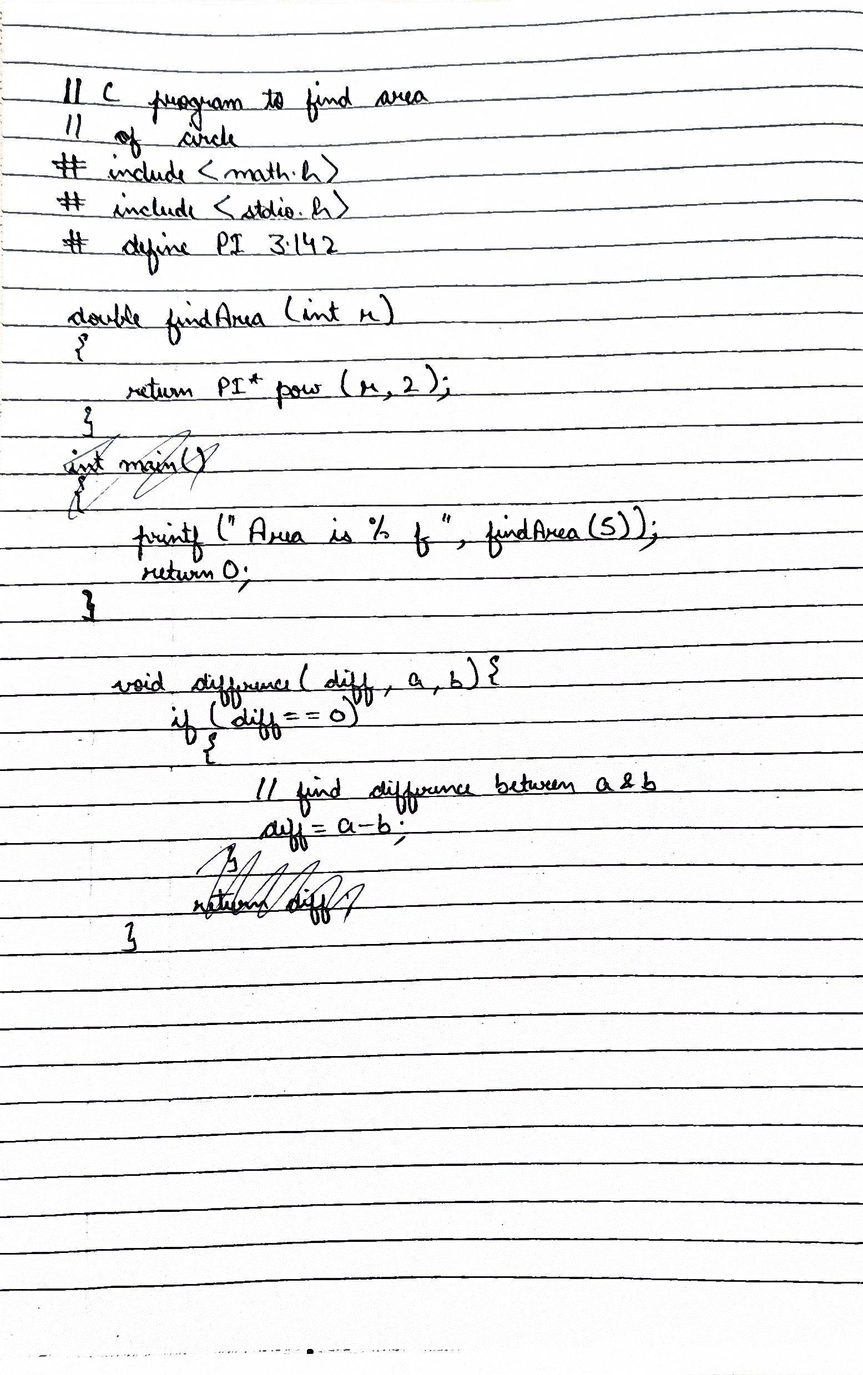cuttings: (61, 428, 222, 522), (192, 841, 366, 927)
